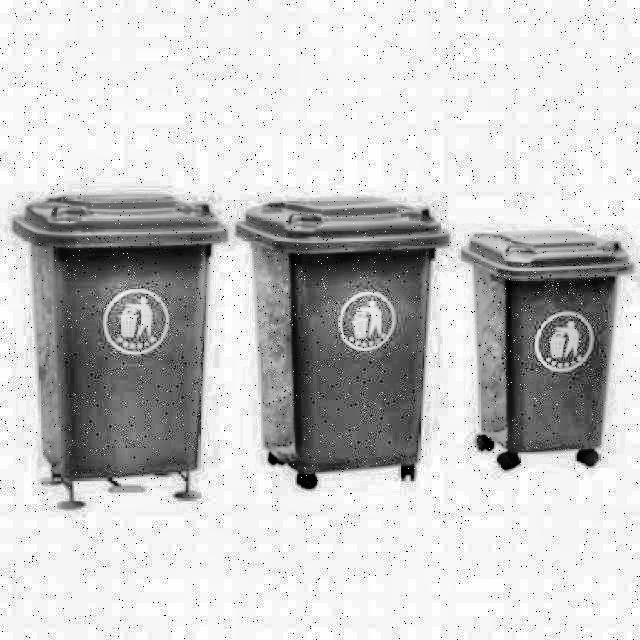Dustbin: (0, 186, 232, 528), (233, 188, 456, 508), (453, 218, 639, 496)
